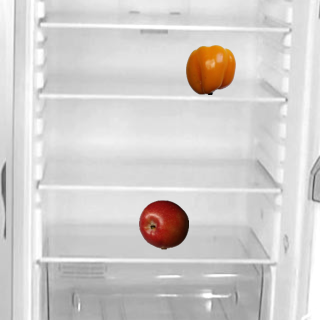Apple Braeburn: (138, 199, 188, 249)
Pepper Yellow: (185, 44, 235, 94)
